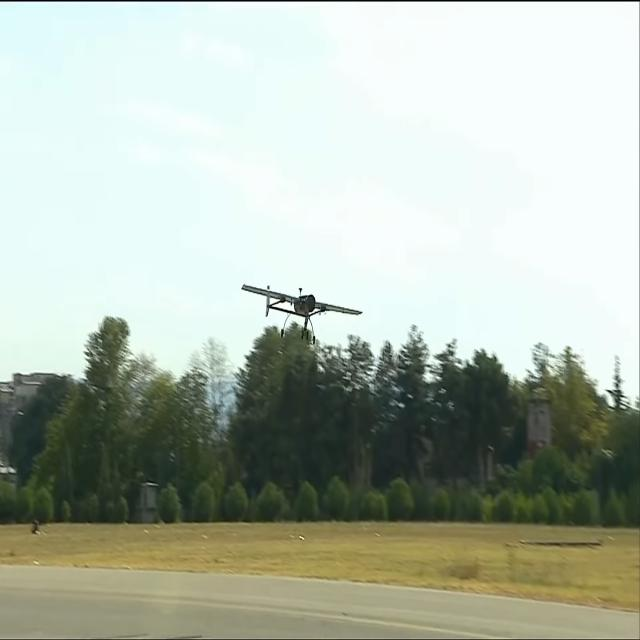iha: (270, 281, 332, 342)
